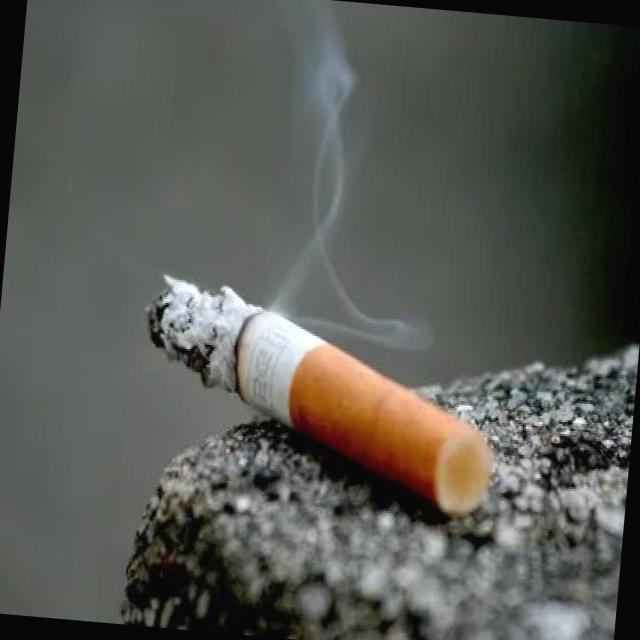smoke: (123, 262, 499, 520)
